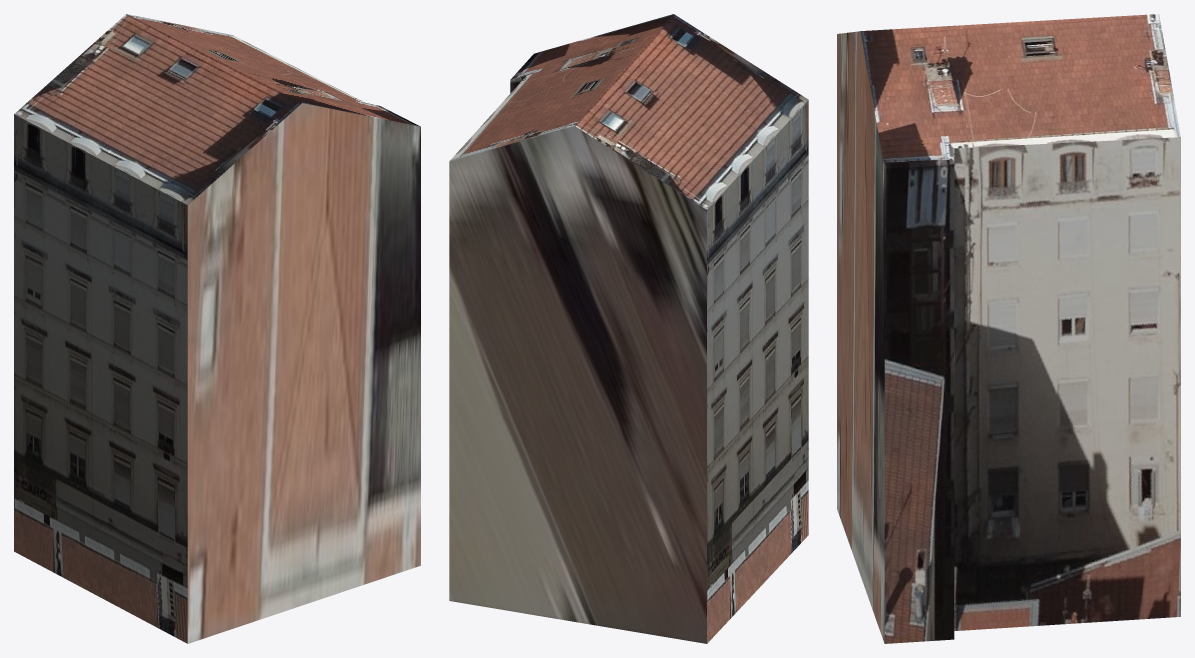
3 views of the same model, side by side, from view 1: azimuth 30°, elevation 25°; view 2: azimuth 150°, elevation 25°; view 3: azimuth 270°, elevation 25° (orthographic). The views are drawn at different scales.
Visible parts, largest first — view 1: Z_UP; view 2: Z_UP; view 3: Z_UP.
Part boxes in pixels (x1,y1,x2,y2): Z_UP: [14, 14, 420, 643]; Z_UP: [449, 14, 808, 643]; Z_UP: [837, 14, 1180, 643].
Size of the model in its own units: 15.83 by 26.14 by 14.97.
2 materials, 1 textured.
